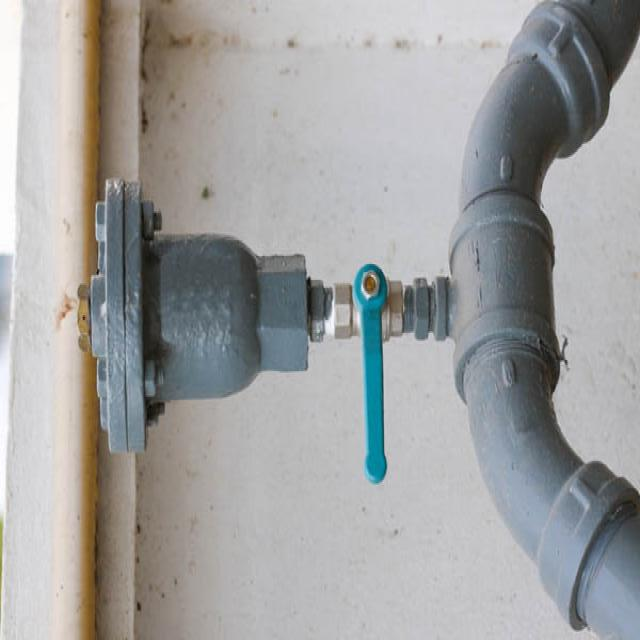closed valve: (324, 256, 413, 488)
